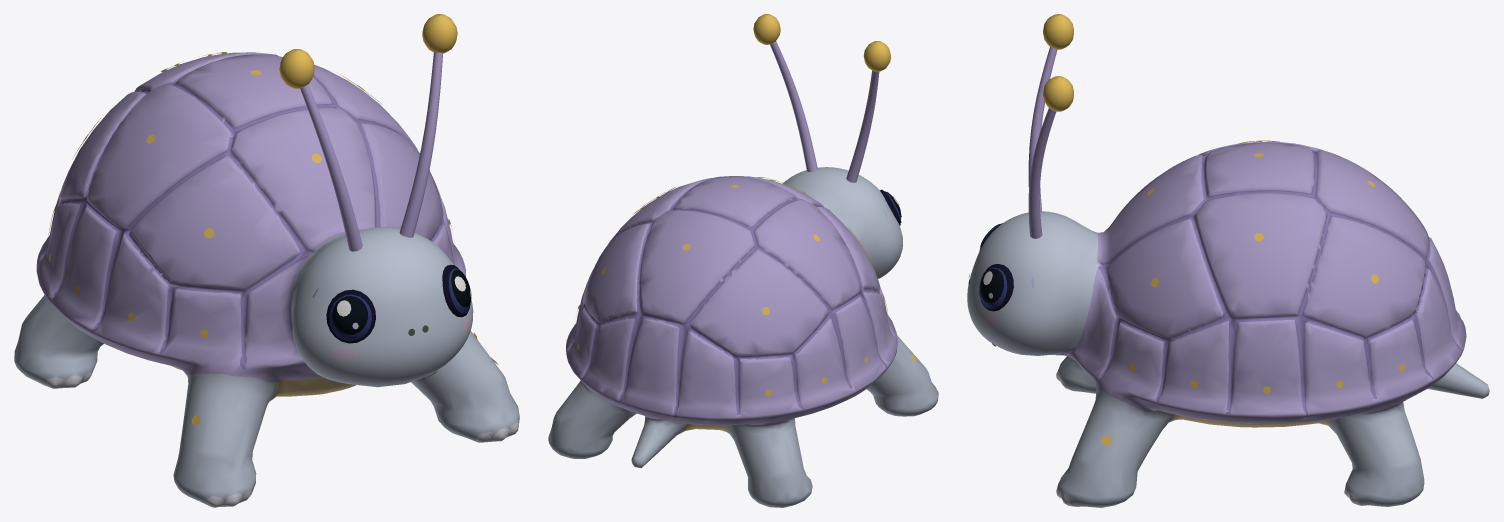
File: aurmere.glb
3 renders of one model, left to right at view 1: azimuth 30°, elevation 25°; view 2: azimuth 150°, elevation 25°; view 3: azimuth 270°, elevation 25°, orthographic. The views are drawn at different scales.
Visible parts, largest first — view 1: body, eyes; view 2: body, eyes; view 3: body, eyes.
Boxes of the visible parts, x1,y1,x2,y2 form: body: (14, 52, 519, 507); eyes: (48, 14, 498, 425); body: (548, 167, 938, 507); eyes: (577, 14, 916, 396); body: (967, 141, 1489, 507); eyes: (968, 14, 1404, 445).
Bounding box in the file's own units: 0.9514 × 1.11 × 1.32.
